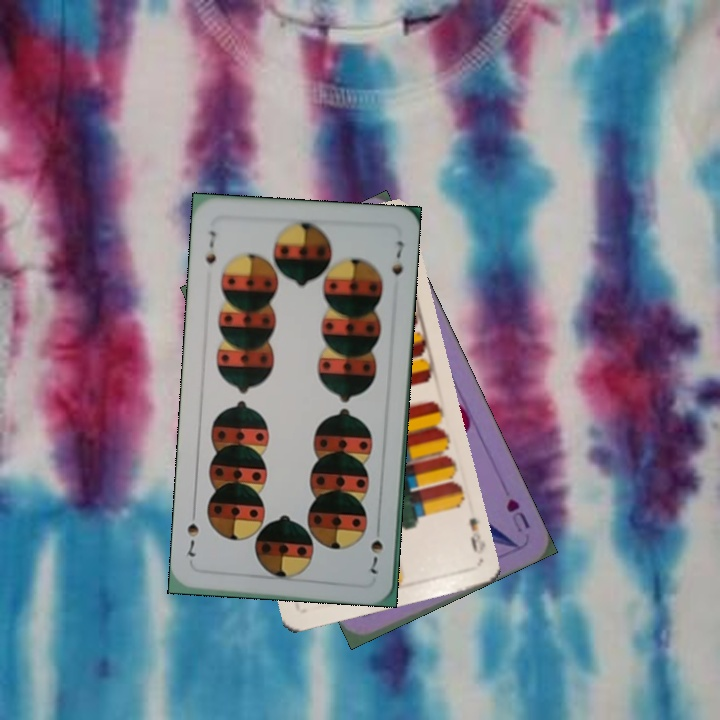E9: (465, 513, 488, 557)
HU: (502, 495, 533, 535)
S7: (366, 520, 386, 576), (202, 226, 219, 266)
